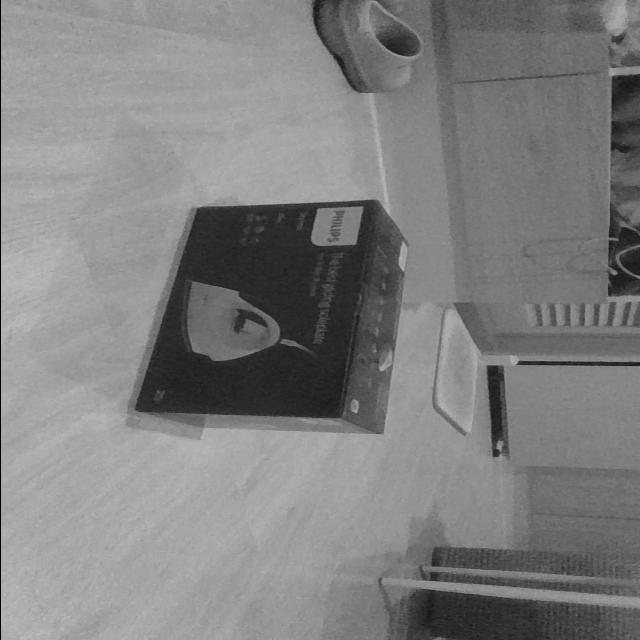IRON: (129, 197, 413, 437)
